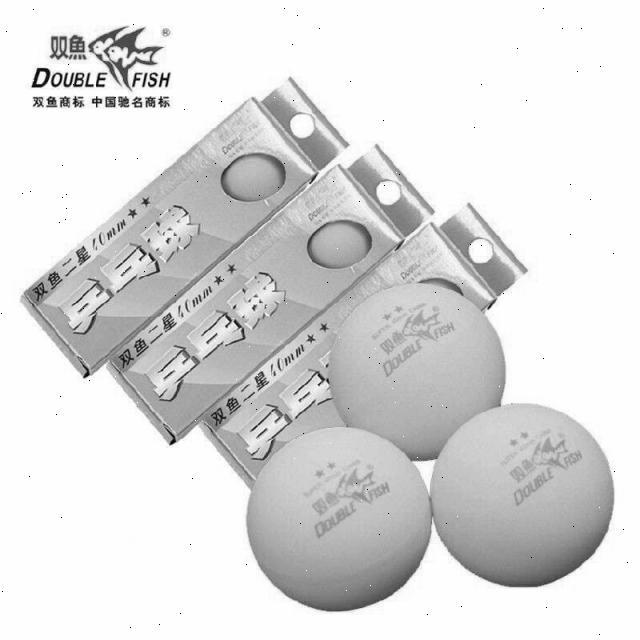ping-pong-ball: (242, 422, 434, 616), (427, 398, 616, 592), (324, 280, 508, 464), (310, 219, 368, 271), (220, 151, 278, 202)
